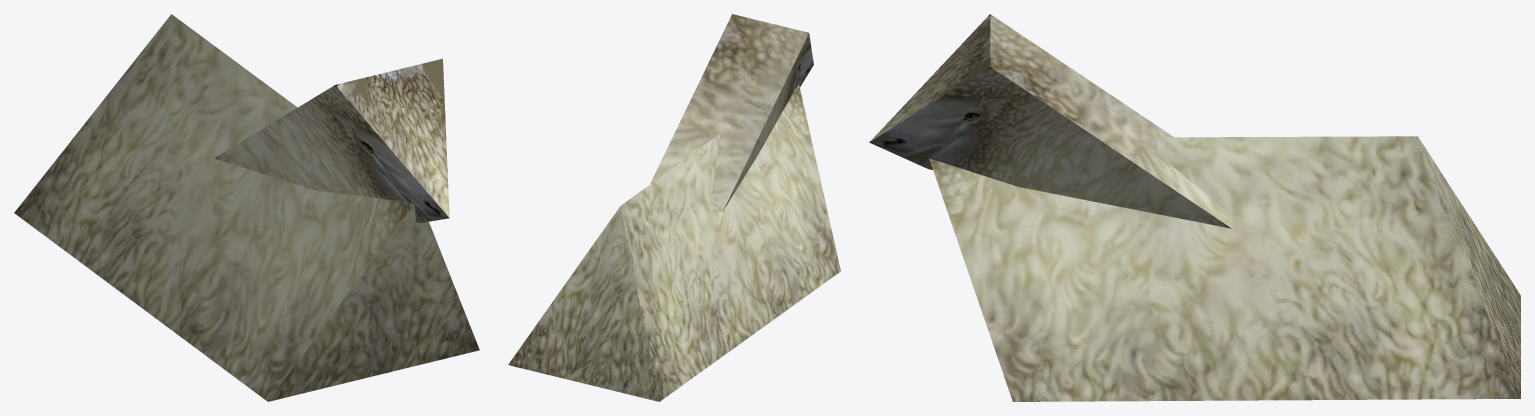
File: sheep-stand1-cbj_LOD04.gltf
3 renders of one model, left to right at view 1: azimuth 30°, elevation 25°; view 2: azimuth 150°, elevation 25°; view 3: azimuth 270°, elevation 25°, orthographic. The views are drawn at different scales.
Parts seen in each view (by area): view 1: Cylinder.001; view 2: Cylinder.001; view 3: Cylinder.001.
Boxes of the visible parts, left/top/right/bottom form: Cylinder.001: left=14, top=14, right=479, bottom=401; Cylinder.001: left=508, top=14, right=840, bottom=401; Cylinder.001: left=869, top=14, right=1520, bottom=401.
Size of what is drawn, in the model's own units: 0.5838 by 0.8208 by 1.55.
